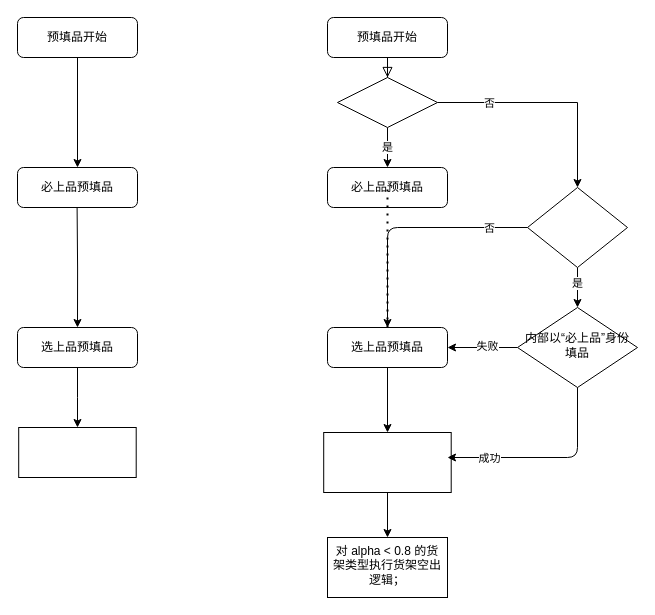
Some shapes in this 655 by 615 pixel diagram are drawn without their labels. Here are the shapes that lost their labels. From the top down, the centre of each, then its label:
At (387,102): "是否为必上品清单集合".
At (577,227): "是否为选上品中的高销品集合".
At (77,452): "预填品结束 alpha=0.5, beta=2".
At (387,462): "预填品结束 alpha=0.7, beta=1.5".
